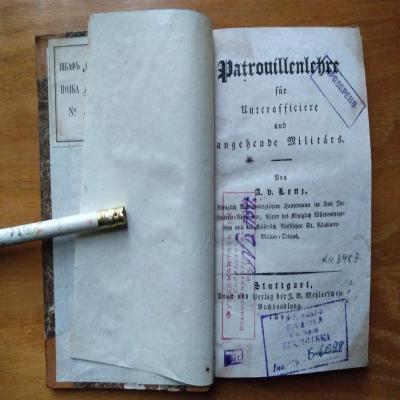rare_books: (29, 22, 373, 390)
